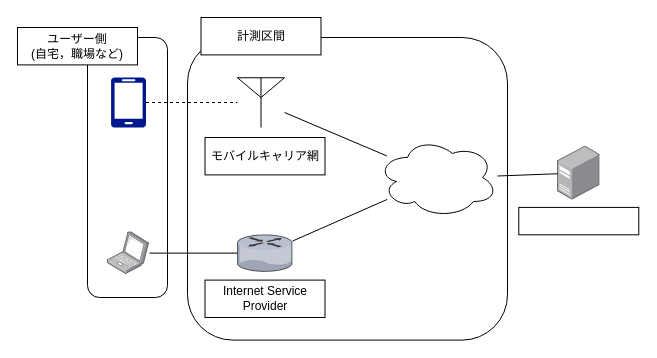
Some shapes in this 657 by 358 pixel diagram are drawn without their labels. Each missing label, with the box of its shape:
iNonius Speed Test: (518, 206, 639, 235)
Internet: (376, 136, 498, 218)
